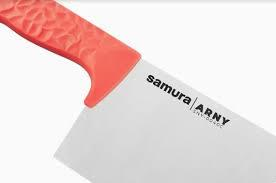Knife: (0, 0, 275, 182)
